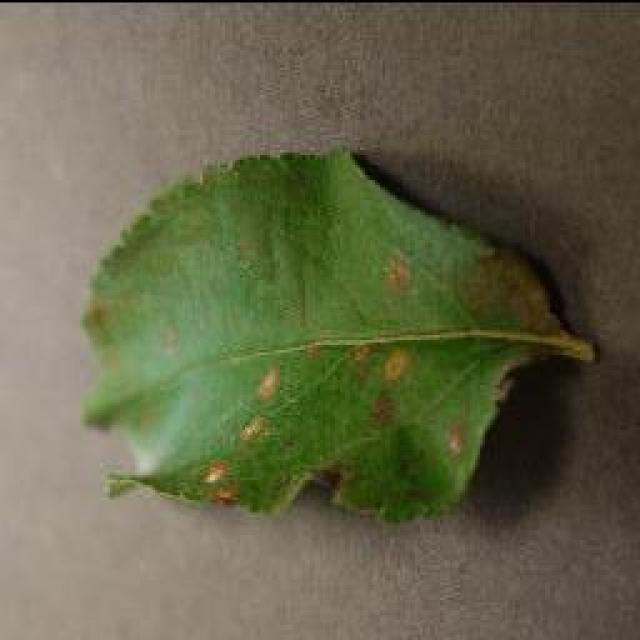apple healthy: (78, 142, 598, 522)
